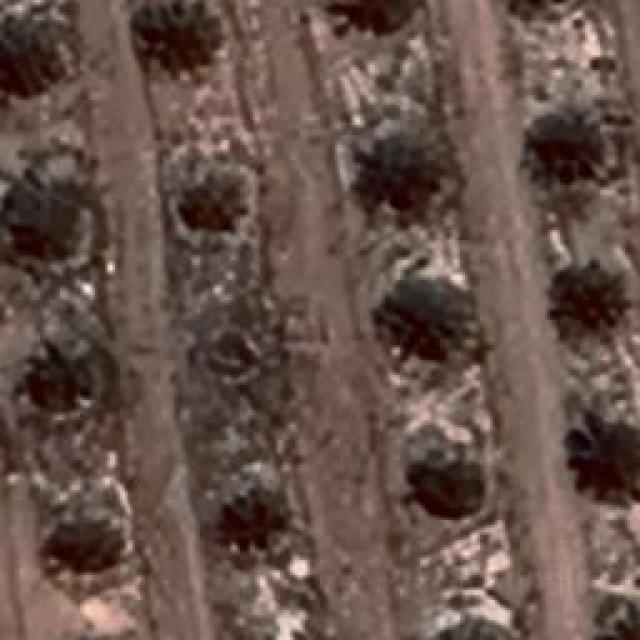PalmTree: (364, 132, 456, 215), (565, 412, 640, 506), (374, 285, 462, 365), (135, 0, 223, 78), (3, 182, 88, 262), (402, 456, 482, 534), (520, 111, 605, 184), (26, 330, 89, 422), (42, 517, 126, 585), (551, 262, 624, 336), (180, 165, 252, 240), (0, 34, 75, 106), (204, 482, 282, 546), (322, 0, 427, 42), (429, 609, 519, 640), (586, 600, 640, 639)
